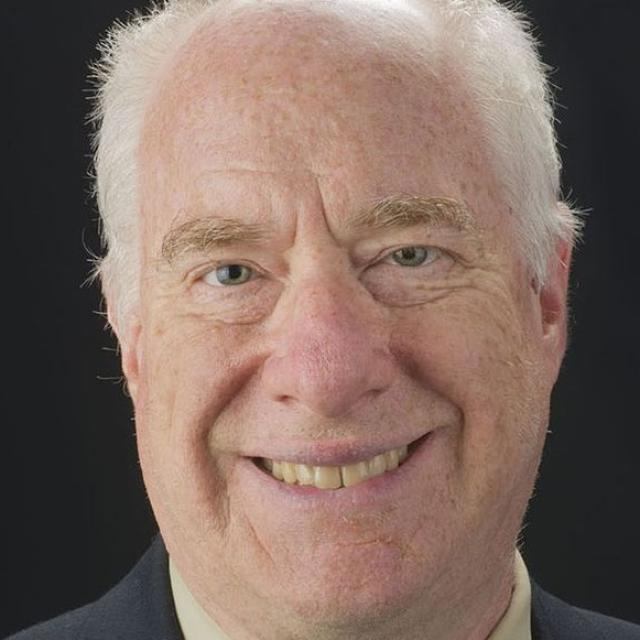Normal: (132, 13, 549, 633)
